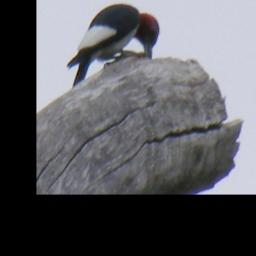Woodpecker: (63, 1, 164, 90)
